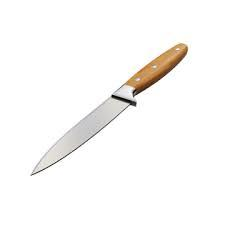Knife: (30, 41, 188, 176)
